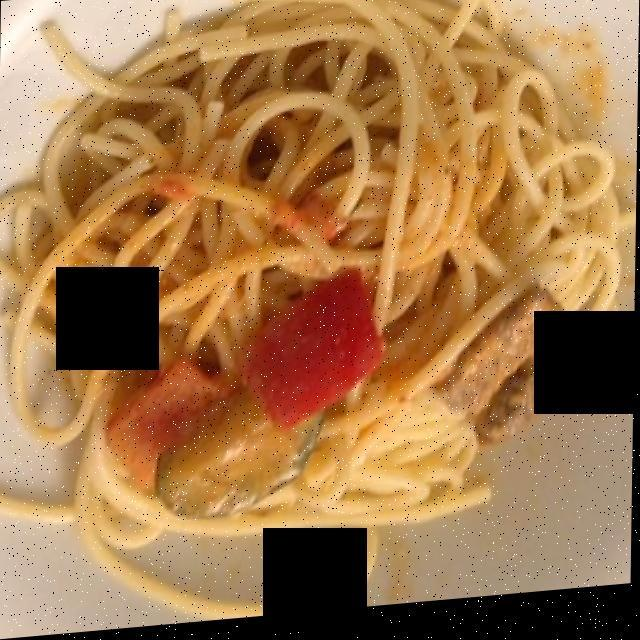beef: (416, 311, 575, 461)
mixed-vegetables: (133, 276, 400, 517)
pasta: (14, 0, 606, 603)
